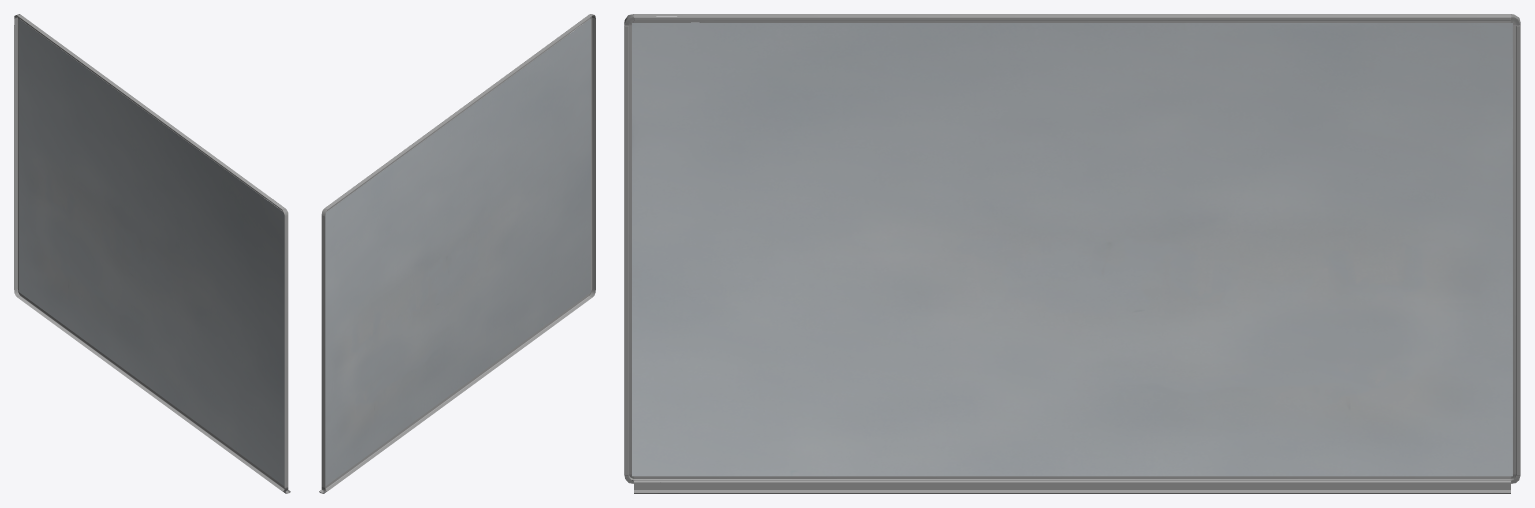
The model's file is Whiteboard.obj.
3 renders of one model, left to right at view 1: azimuth 30°, elevation 25°; view 2: azimuth 150°, elevation 25°; view 3: azimuth 270°, elevation 25°, orthographic. The views are drawn at different scales.
Parts seen in each view (by area): view 1: SM_Whiteboard; view 2: SM_Whiteboard; view 3: SM_Whiteboard.
Boxes of the visible parts, x1,y1,x2,y2 form: SM_Whiteboard: [14, 14, 290, 493]; SM_Whiteboard: [319, 14, 595, 493]; SM_Whiteboard: [624, 14, 1520, 493].
Size of the model in its own units: 0.0449 by 1.32 by 2.26.
